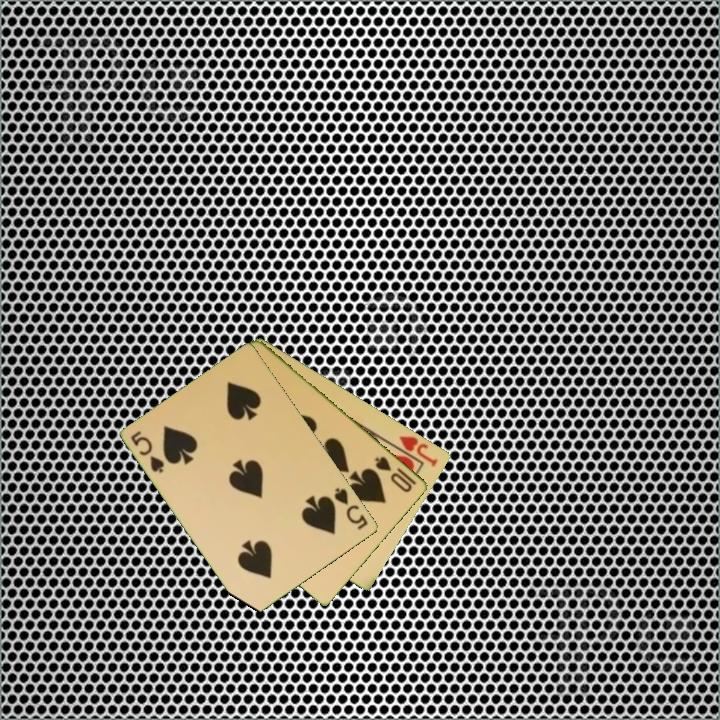10s: (371, 453, 415, 495)
5s: (331, 484, 371, 533), (128, 427, 168, 476)
Jh: (396, 432, 441, 469)
